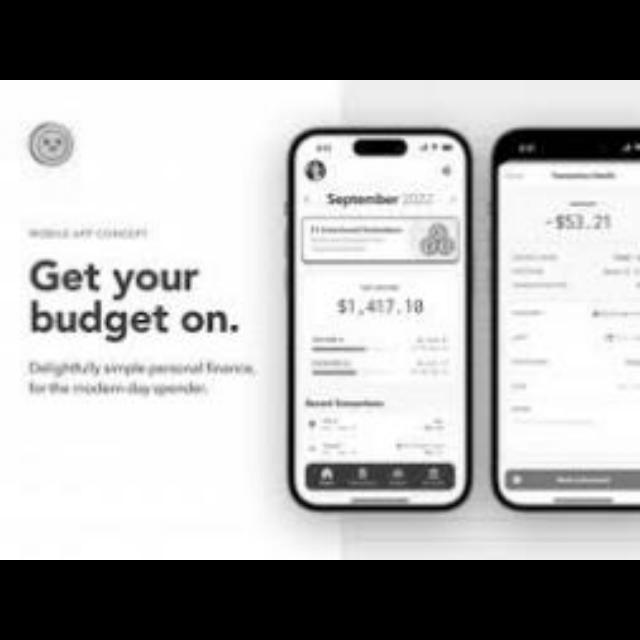fake: (288, 122, 470, 516), (494, 126, 640, 517)
